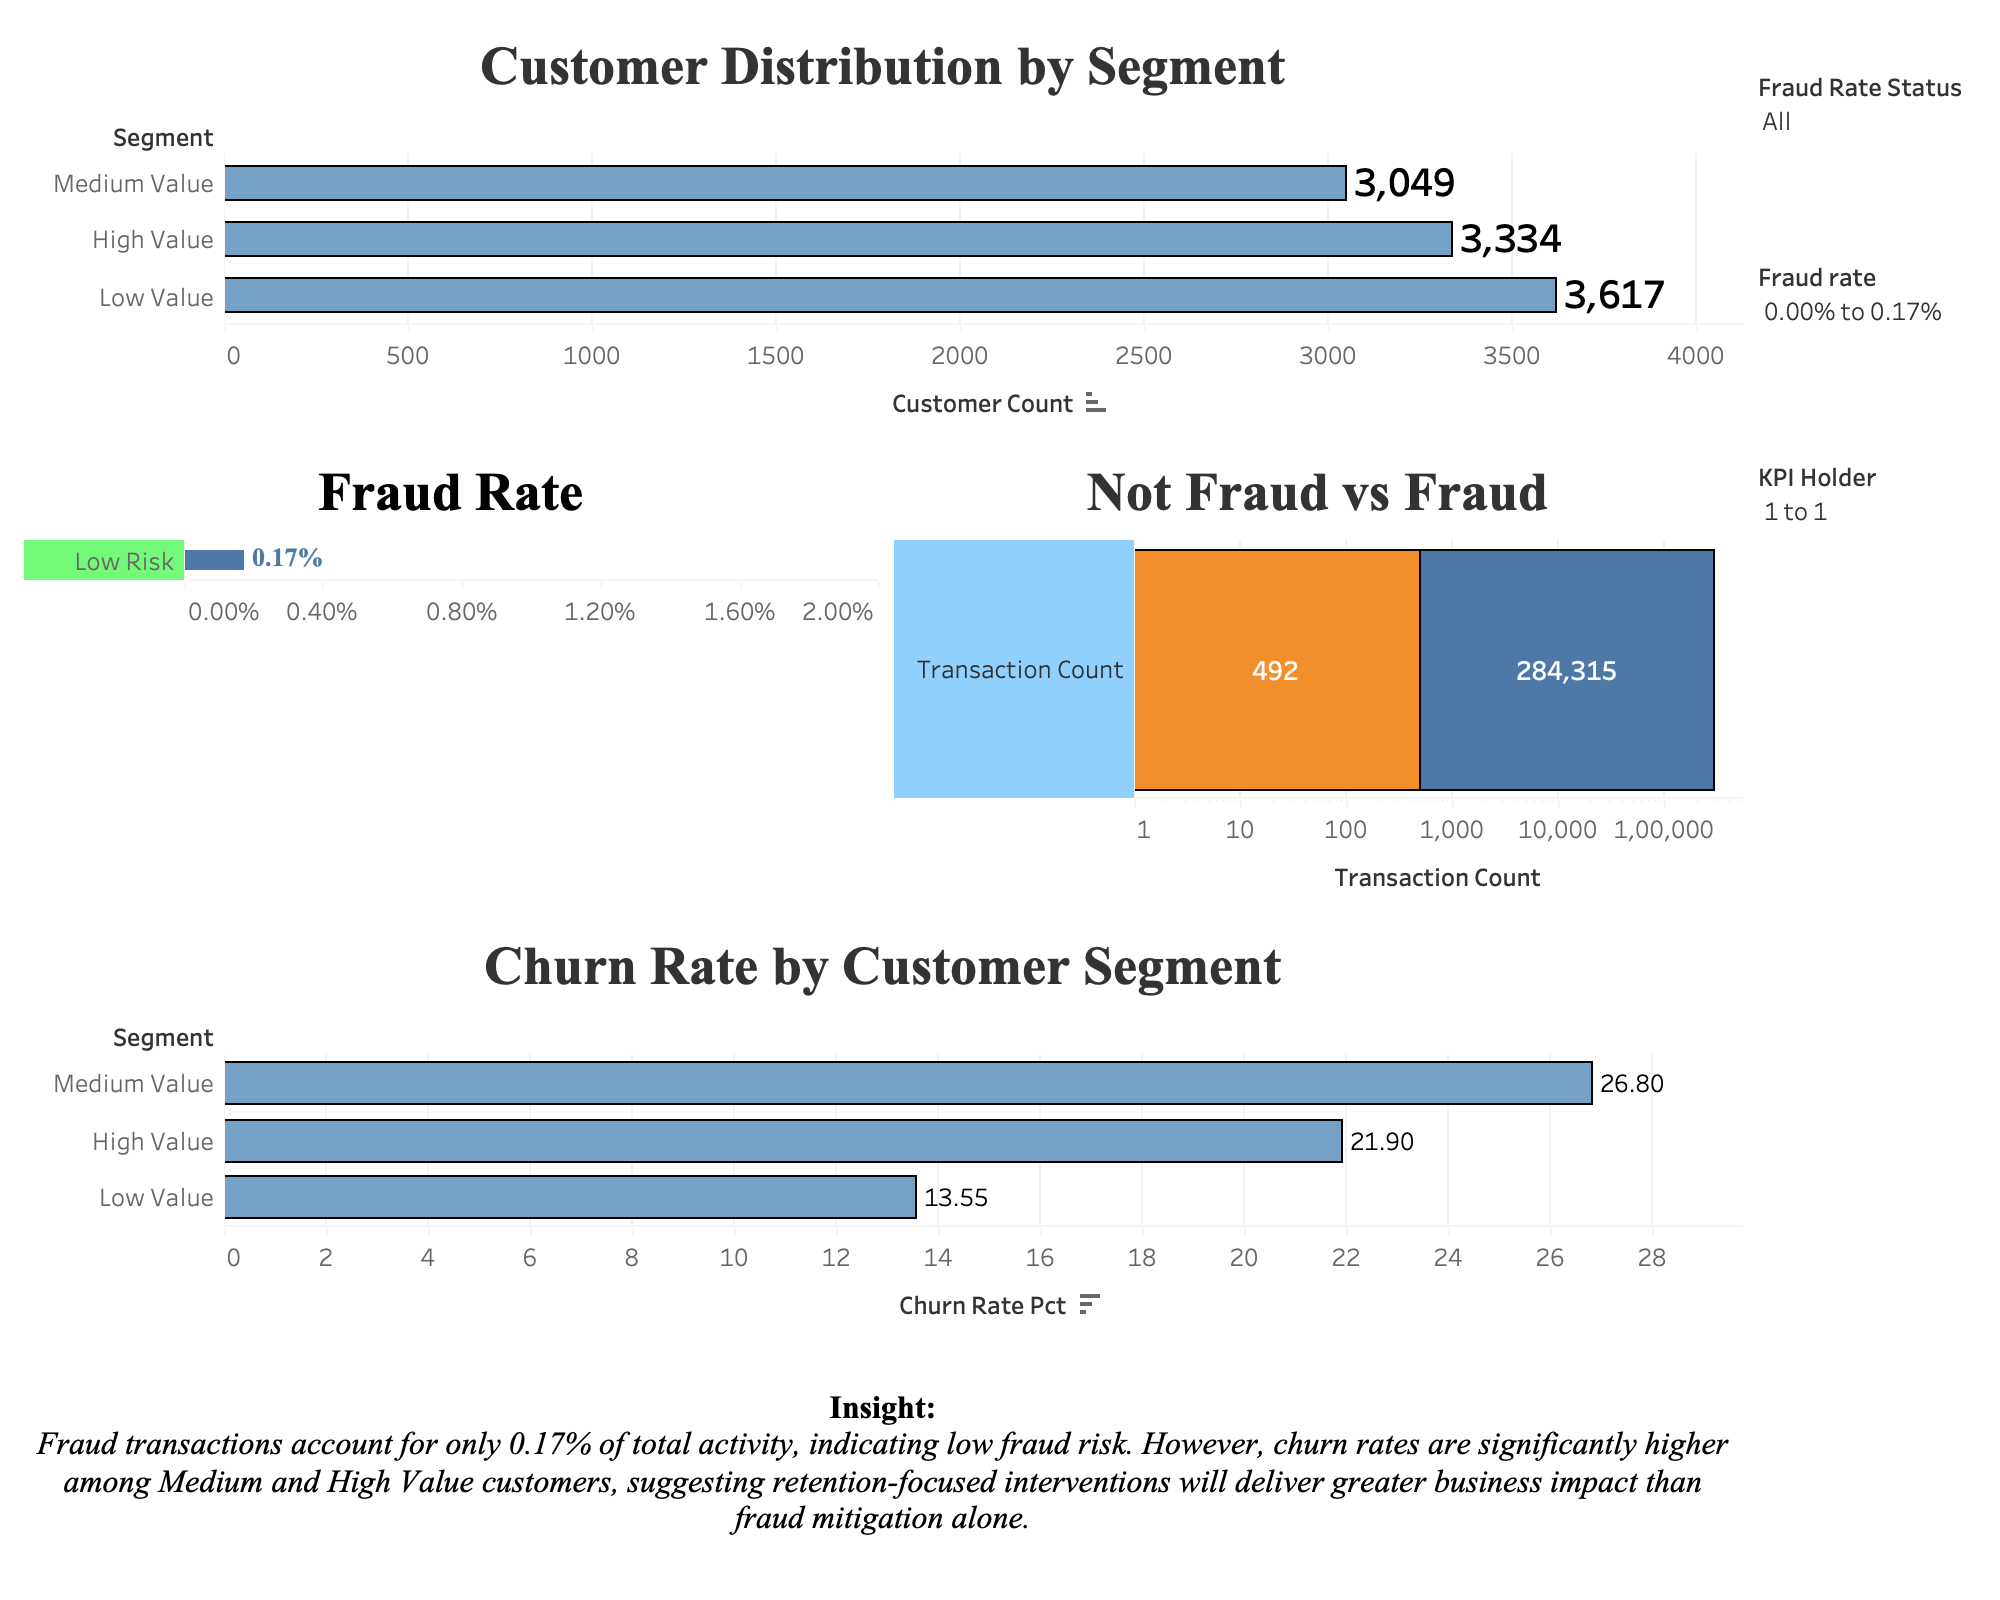

The dashboard page shown, as its layout file describes it:
{"tool":"tableau","page":{"name":"Customer Churn & Risk Overview","canvas":[1000,800],"ordinal":0},"visuals":[{"type":"worksheet","title":"Customer Distribution by Segment","mark":"Bar","rows":["segment"],"cols":["customer_count"],"box":[8,8,867,213]},{"type":"legend","title":"Overall Fraud Rate","param":"[federated.1b1uss502ztiqz1e8db7z1pj9dki].[usr:Calculation_6004733156757506:qk]","box":[875,8,117,22]},{"type":"filter","title":"Overall Fraud Rate","param":"[federated.1b1uss502ztiqz1e8db7z1pj9dki].[usr:Calculation_6004733164285955:nk]","box":[875,30,117,95]},{"type":"filter","title":"Overall Fraud Rate","param":"[federated.1b1uss502ztiqz1e8db7z1pj9dki].[usr:Calculation_6004733156757506:qk]","box":[875,125,117,100]},{"type":"worksheet","title":"Overall Fraud Rate","mark":"Automatic","rows":["Calculation_6004733164285955"],"cols":["Calculation_6004733156757506"],"box":[8,221,435.4,237]},{"type":"worksheet","title":"FraudVsNotfraud","mark":"Automatic","cols":["transaction_count"],"box":[443.4,221,431.6,237]},{"type":"filter","title":"Overall Fraud Rate","param":"[federated.1b1uss502ztiqz1e8db7z1pj9dki].[usr:Calculation_6004733196070916:qk]","box":[875,225,117,96]},{"type":"worksheet","title":"Churn Rate by Customer Segment","mark":"Automatic","rows":["segment"],"cols":["churn_rate_pct"],"box":[8,458,867,214]},{"type":"text","box":[8,672,867,120]}]}

Visuals, with their boxes in screenshot pixels (x1, y1, x2, y2), scaled from the page's 1000x800 canvas onto the 2000x1600 screenshot:
"Customer Distribution by Segment" worksheet (Bar marks): 16,16,1750,442
"Overall Fraud Rate" legend: 1750,16,1984,60
"Overall Fraud Rate" filter: 1750,60,1984,250
"Overall Fraud Rate" filter: 1750,250,1984,450
"Overall Fraud Rate" worksheet: 16,442,887,916
"FraudVsNotfraud" worksheet: 887,442,1750,916
"Overall Fraud Rate" filter: 1750,450,1984,642
"Churn Rate by Customer Segment" worksheet: 16,916,1750,1344
text: 16,1344,1750,1584
